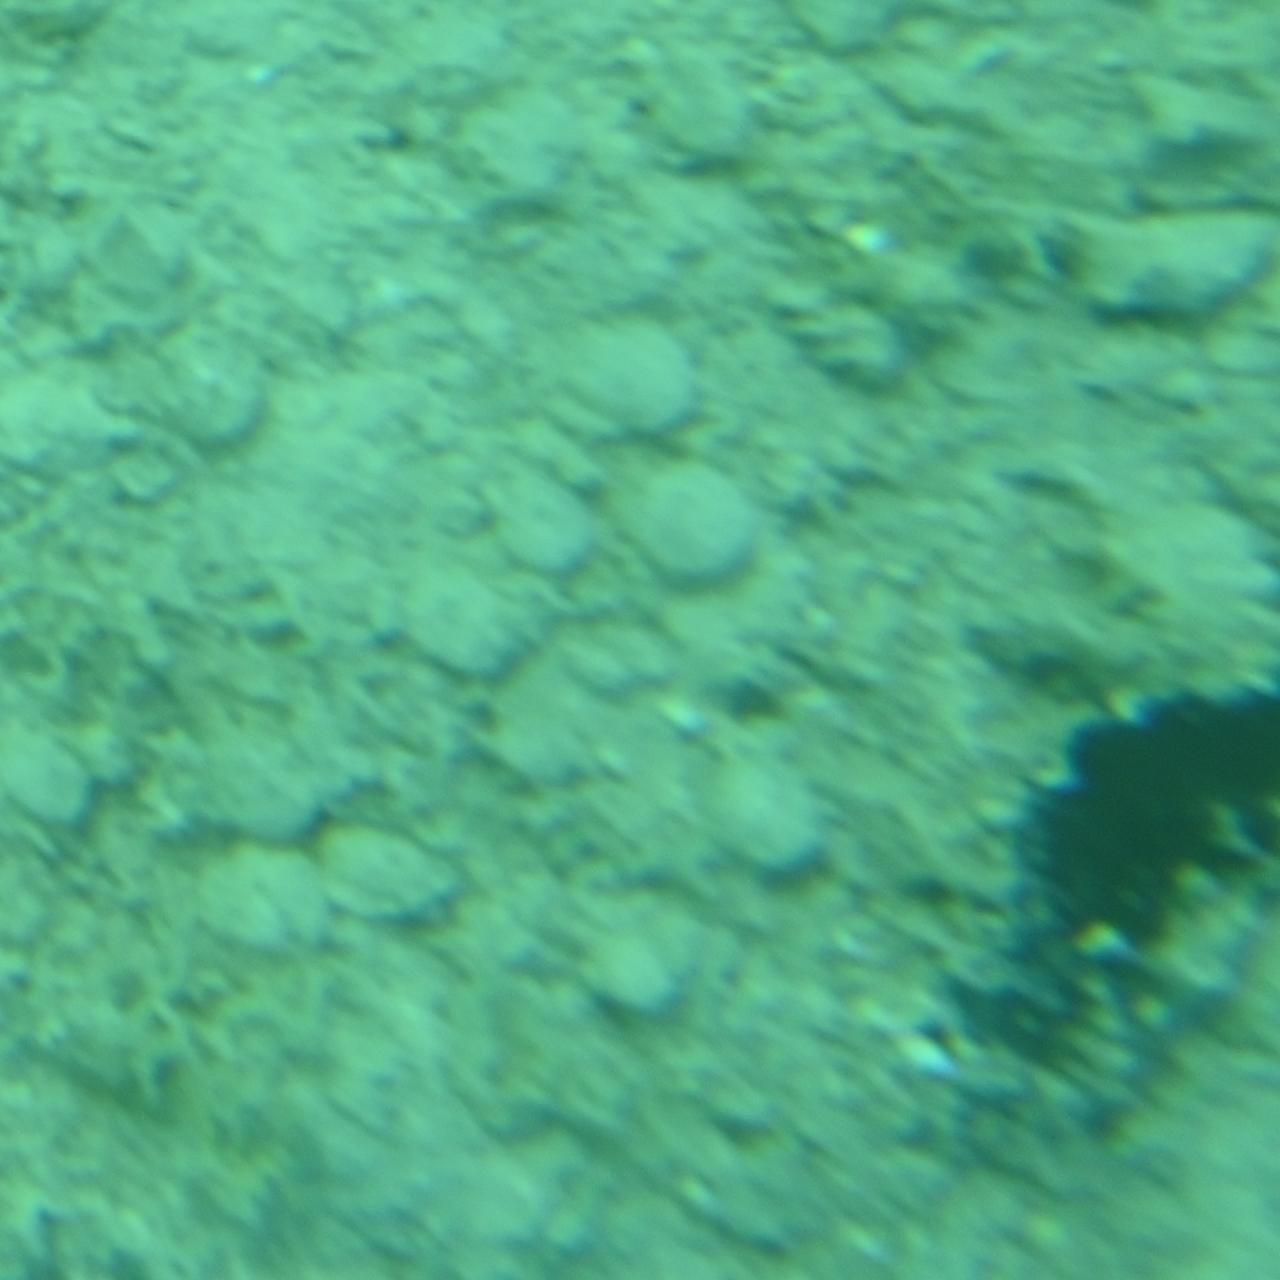Holothuria tubulosa: (892, 682, 1280, 1191)
